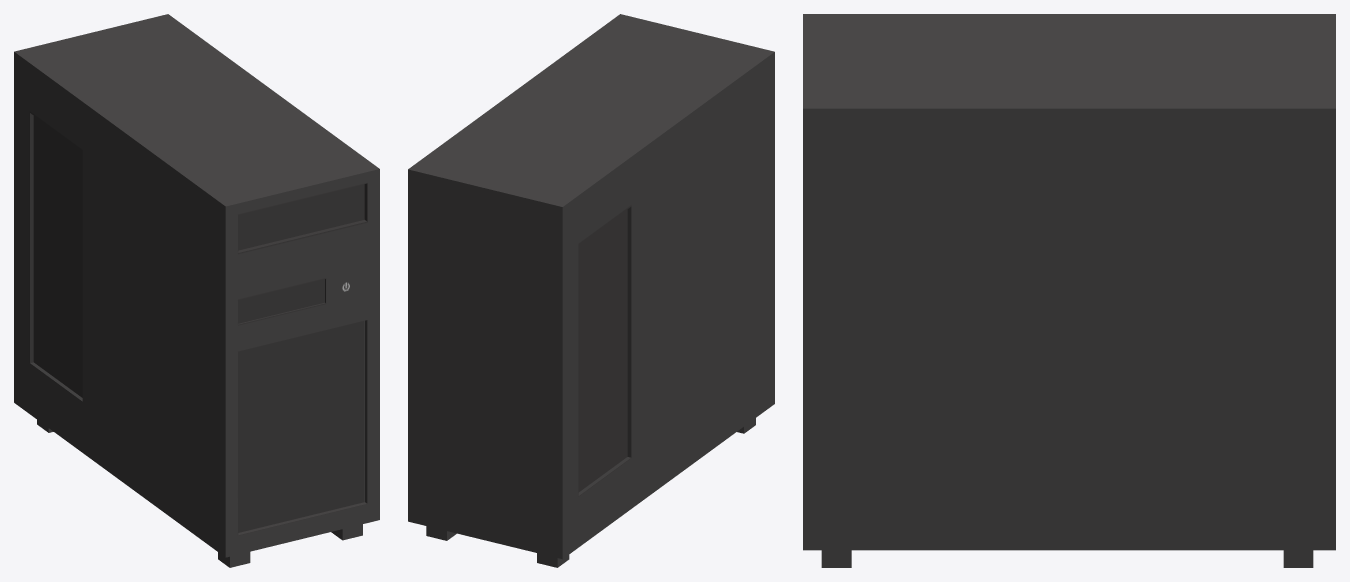
Rendered from CPU.fbx.
The picture shows the model from 3 angles, left to right: view 1: azimuth 30°, elevation 25°; view 2: azimuth 150°, elevation 25°; view 3: azimuth 270°, elevation 25°; orthographic projection. The views are drawn at different scales.
Visible parts, largest first — view 1: Cube; view 2: Cube; view 3: Cube.
Part boxes in pixels (left/top/right/bottom): Cube: left=14, top=14, right=379, bottom=557; Cube: left=408, top=14, right=774, bottom=559; Cube: left=803, top=14, right=1335, bottom=550.
Bounding box in the file's own units: 84.1 × 193 × 200.
Materials: 5 (5 with a texture image).
